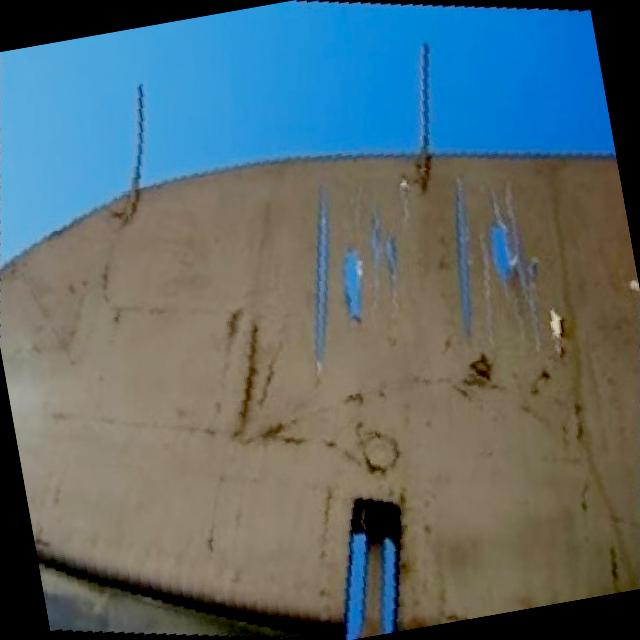crack: (270, 134, 568, 405)
